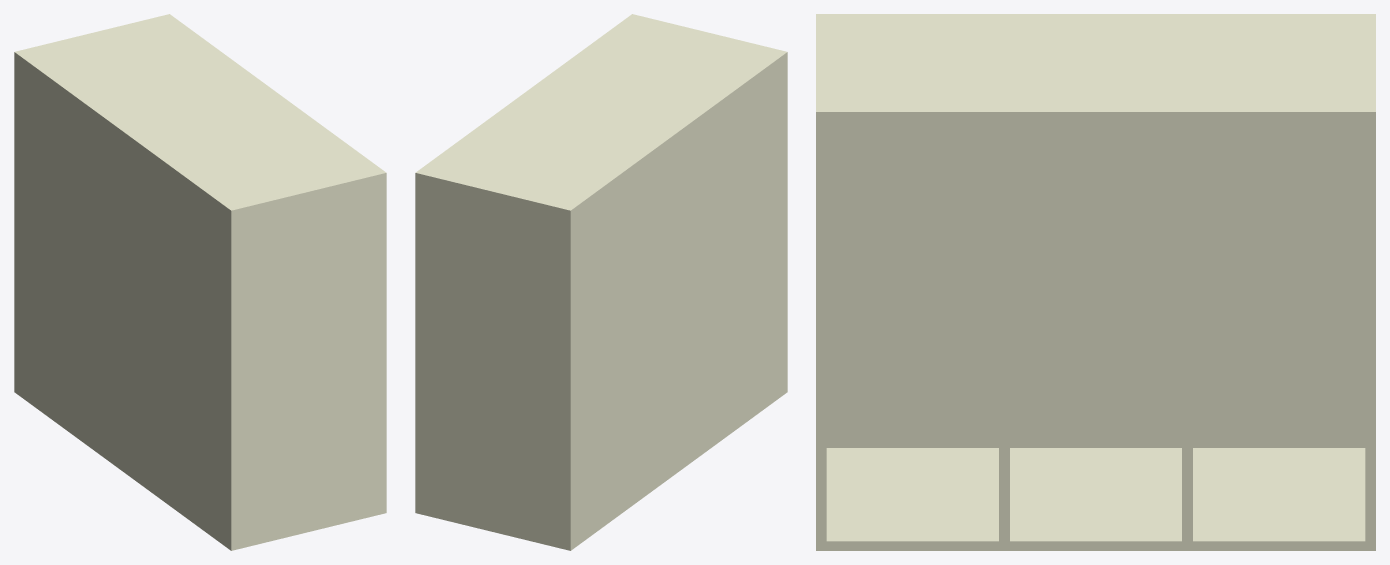
3 renders of one model, left to right at view 1: azimuth 30°, elevation 25°; view 2: azimuth 150°, elevation 25°; view 3: azimuth 270°, elevation 25°, orthographic. The views are drawn at different scales.
Parts seen in each view (by area): view 1: ROOT_link (×5); view 2: ROOT_link (×5); view 3: ROOT_link (×7).
Boxes of the visible parts, left/top/right/bottom form: ROOT_link (×5): left=14, top=14, right=386, bottom=550; ROOT_link (×5): left=415, top=14, right=787, bottom=550; ROOT_link (×7): left=816, top=14, right=1375, bottom=550.
Bounding box in the file's own units: 0.43 × 0.9 × 1.04.
